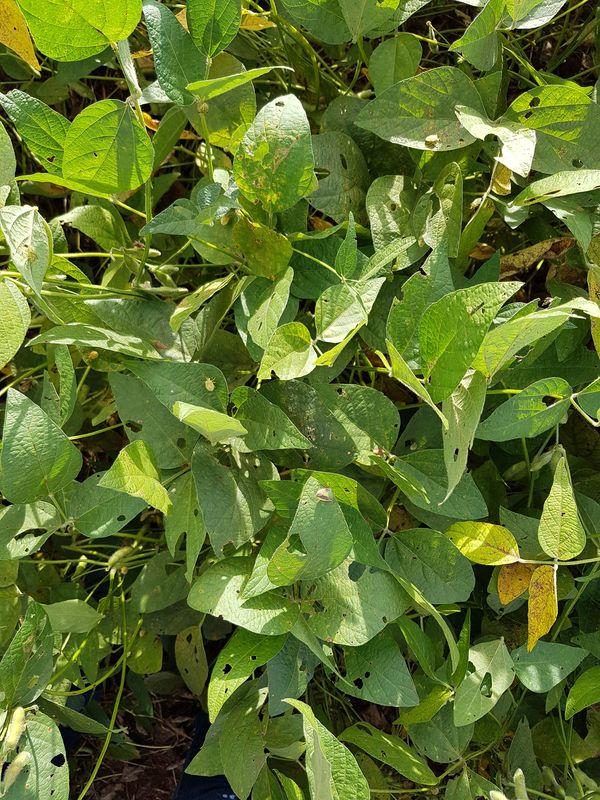Edessa_meditabunda: (308, 480, 340, 509)
Euschistus_heros_ninfa: (195, 370, 225, 398), (85, 348, 101, 364), (217, 213, 231, 229)
